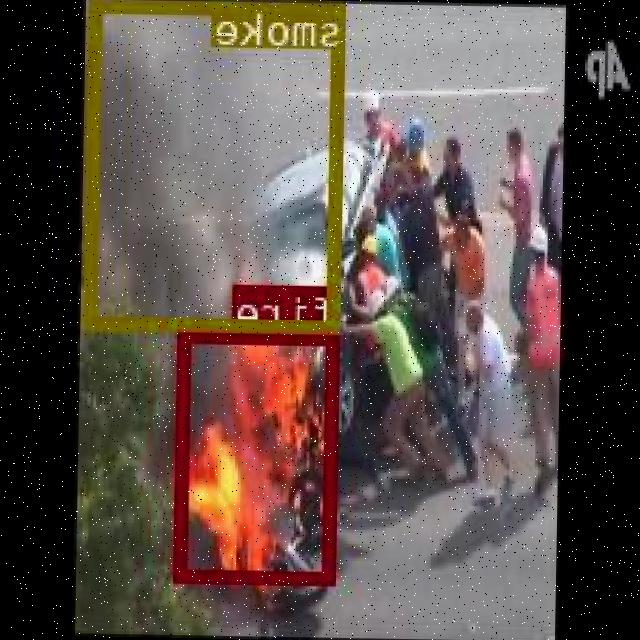fire: (176, 326, 342, 583)
smoke: (85, 0, 346, 330)
